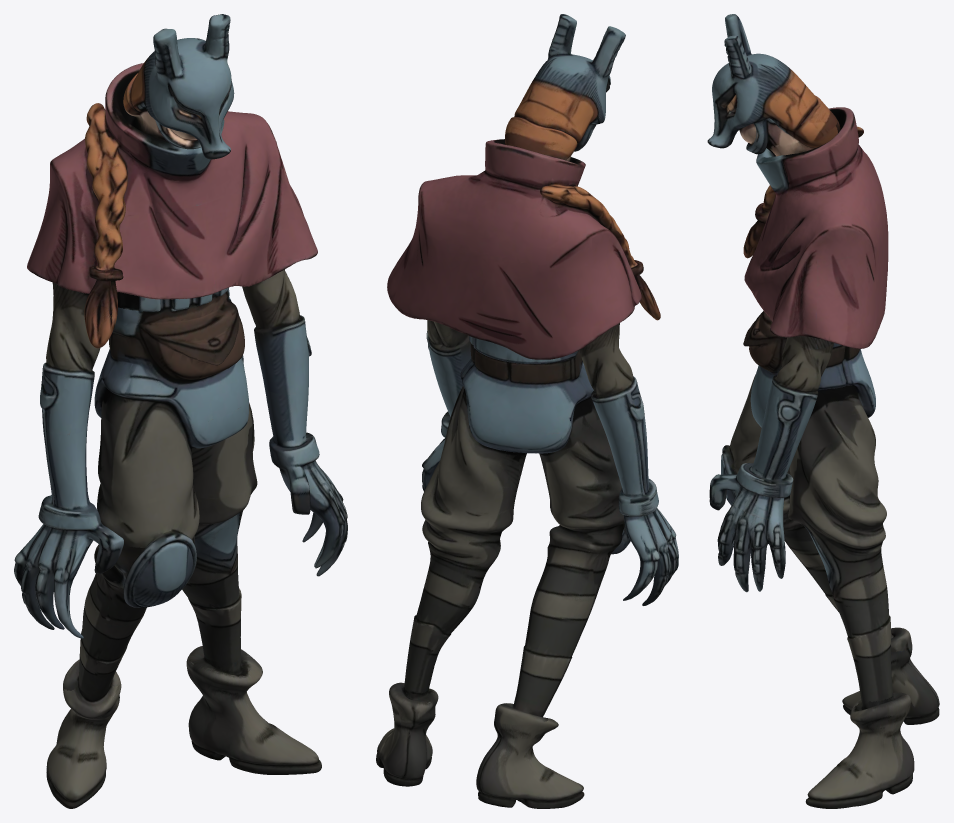
The picture shows the model from 3 angles, left to right: view 1: azimuth 30°, elevation 25°; view 2: azimuth 150°, elevation 25°; view 3: azimuth 270°, elevation 25°; orthographic projection. The views are drawn at different scales.
Parts seen in each view (by area): view 1: tmpuef1hs88obj; view 2: tmpuef1hs88obj; view 3: tmpuef1hs88obj.
Part boxes in pixels (box(x1,y1,x2,y2)): tmpuef1hs88obj: box(14, 14, 347, 808); tmpuef1hs88obj: box(376, 14, 678, 808); tmpuef1hs88obj: box(707, 14, 939, 808).
Bounding box in the file's own units: 0.3908 × 1 × 0.2956.
1 material, 1 textured.
